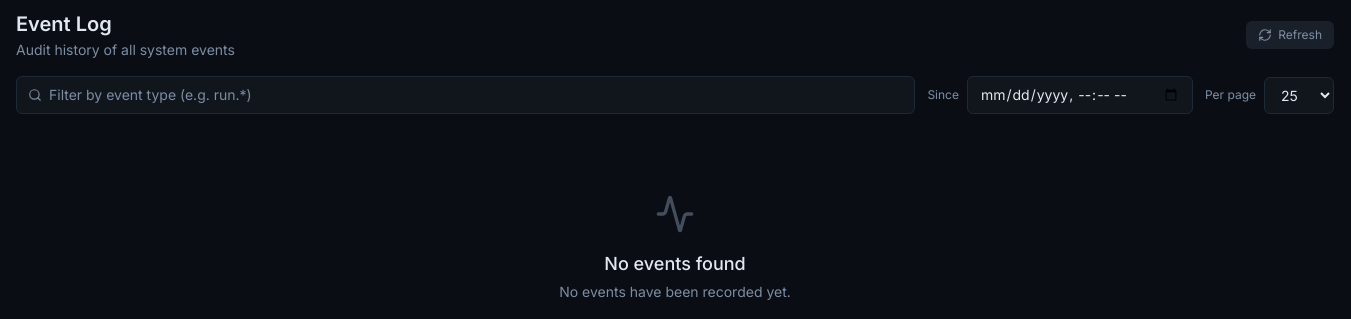
EventsPage › shows filter-specific empty state when filters are active
The image size is (1351, 319).
Note: Type a filter value
Type "nonexistent.*" into the field with placeholder "Filter by event type (e.g. run.*)" at (466, 95), box [16,76,915,114]
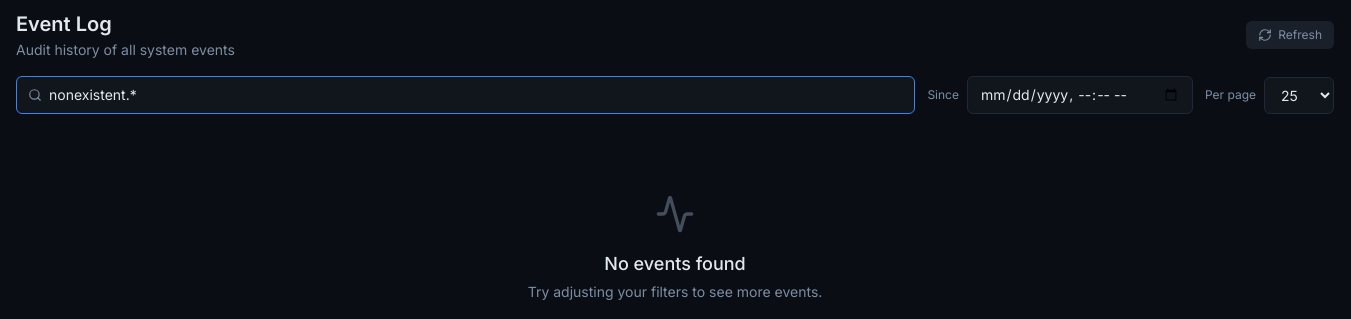
Expected: the heading "No events found" is shown, [604,250,746,278]
Expected: the text "Try adjusting your filters to see more events." is shown, [528,282,822,302]
